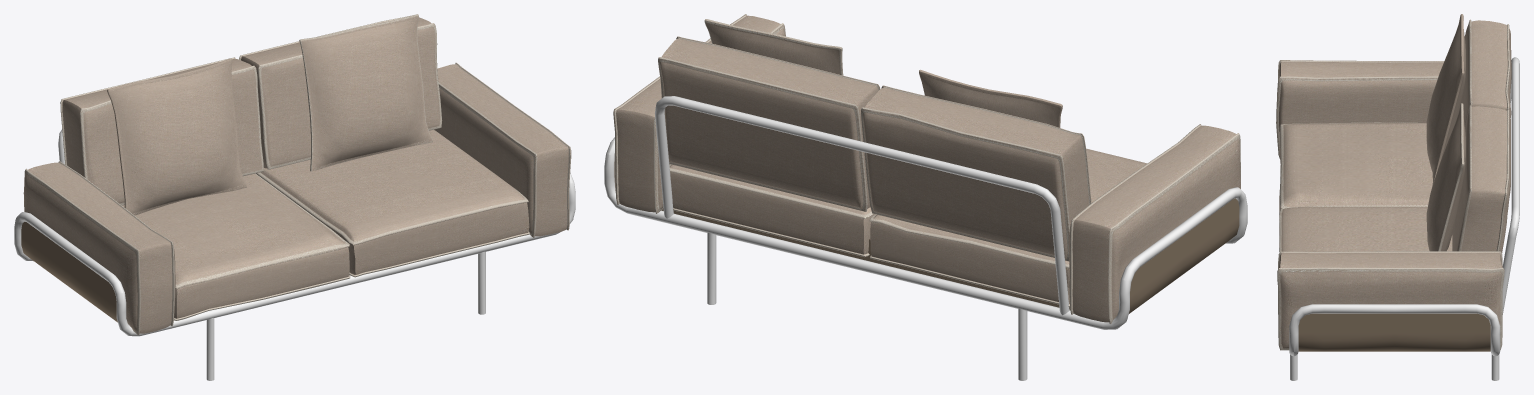
File: sh_scopia_sofa_white_beige.glb
3 views of the same model, side by side, from view 1: azimuth 30°, elevation 25°; view 2: azimuth 150°, elevation 25°; view 3: azimuth 270°, elevation 25° (orthographic). The views are drawn at different scales.
Size of the model in its own units: 1.74 by 0.85 by 0.816.
Materials: 5 (3 with a texture image).
